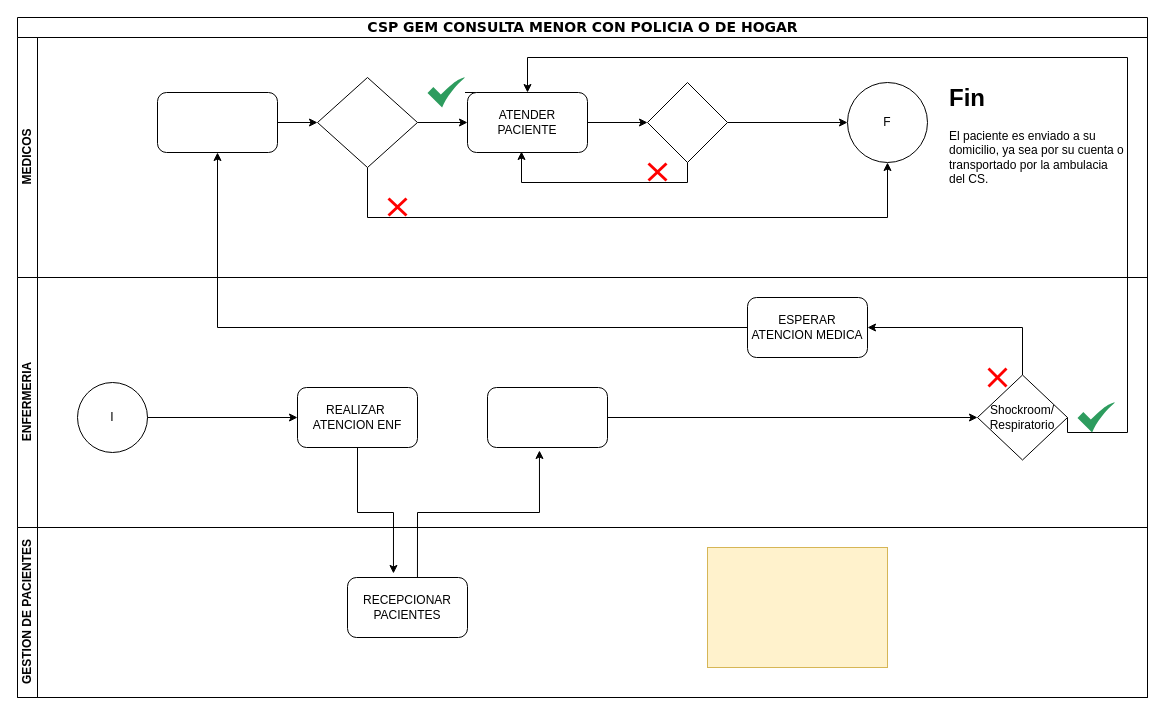
The diagram is 1165 pixels wide and 715 high, and some of its shapes have lost their labels. Here are the shapes that lost their labels. From the top down, the centre of each, then its label:
[217,122]: LLAMAR PACIENTE
[367,122]: ESTA PRESENTE
[687,122]: Fin Atencion
[547,417]: REALIZAR TRIAJE
[797,607]: El Paciente esta acompañado de un policía o personal de un hogar de acogida
